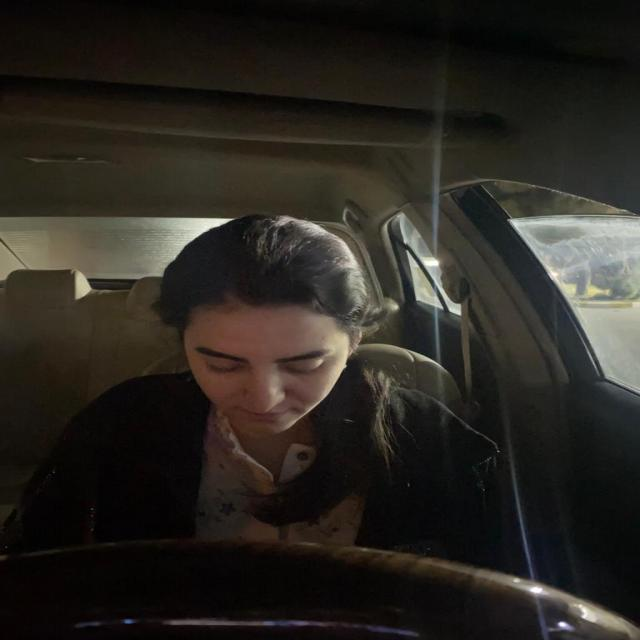drowsy: (161, 234, 377, 442)
